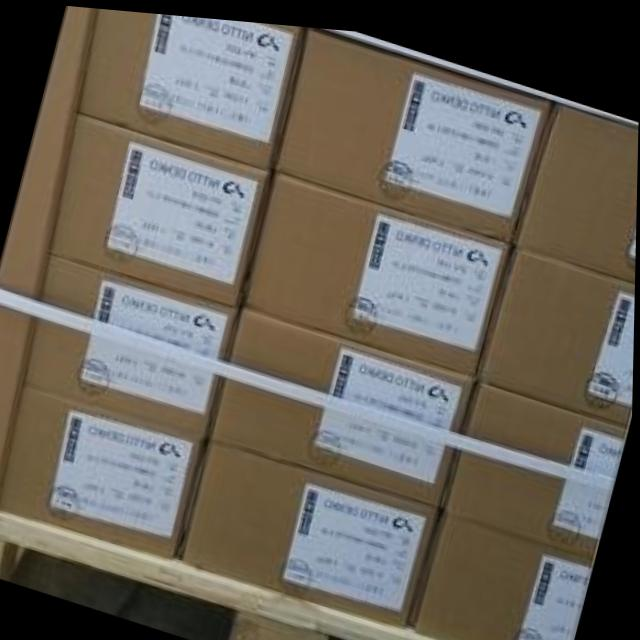box: (275, 23, 555, 236), (241, 168, 512, 369), (206, 305, 473, 503), (178, 435, 444, 619), (49, 110, 271, 303), (22, 252, 239, 434), (78, 7, 304, 167), (0, 386, 206, 554), (444, 371, 630, 550), (478, 236, 636, 418), (409, 504, 594, 640), (512, 94, 639, 270)
